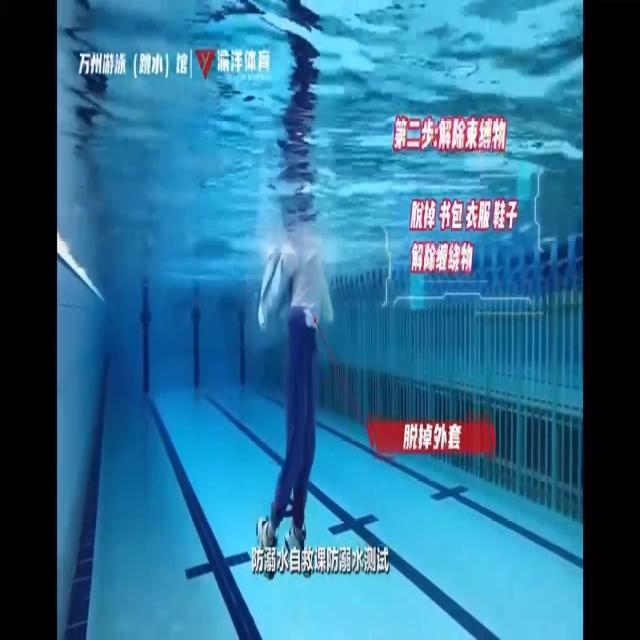Drowning: (254, 225, 334, 580)
